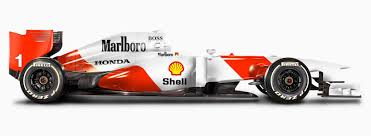f1_car: (5, 23, 368, 111)
